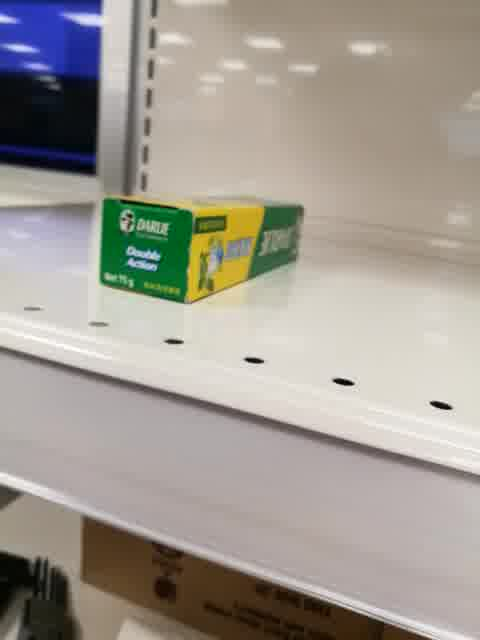toothpaste: (101, 196, 304, 304)
